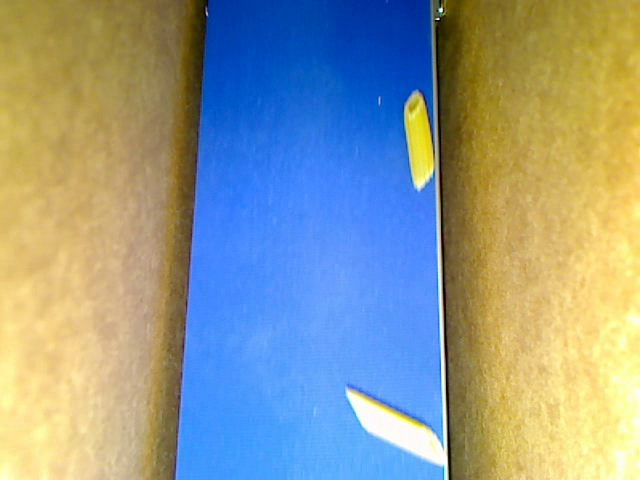penne: (343, 383, 447, 468), (400, 90, 435, 191)
